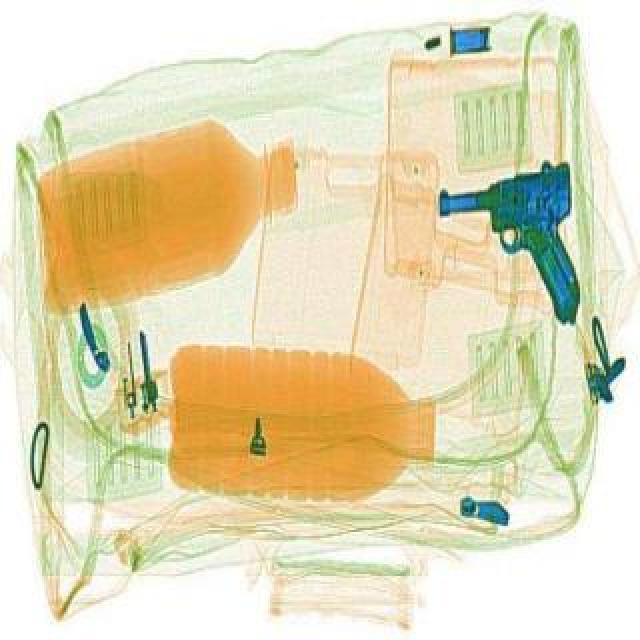gun: (430, 154, 602, 338)
